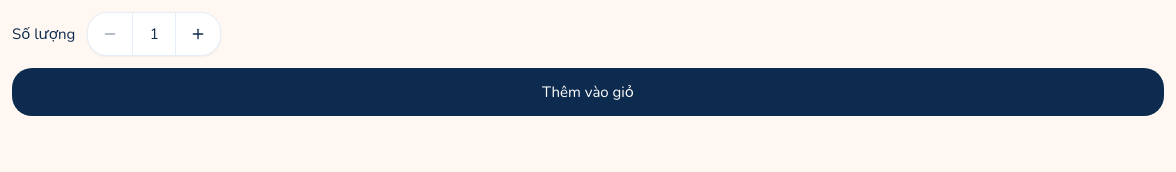
Scenario: ProductPurchasePanel › shows inline confirmation text after adding (announced via aria-live, not colour alone)
Step 1. Click the button "Thêm vào giỏ" → (588, 92), box [12,68,1164,116]
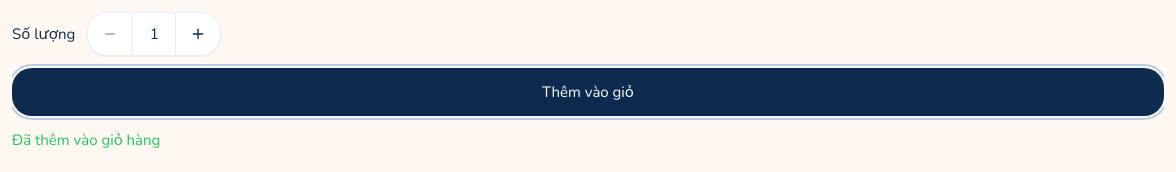
Result: the text "Đã thêm vào giỏ hàng" is shown at [12,130,160,150]
